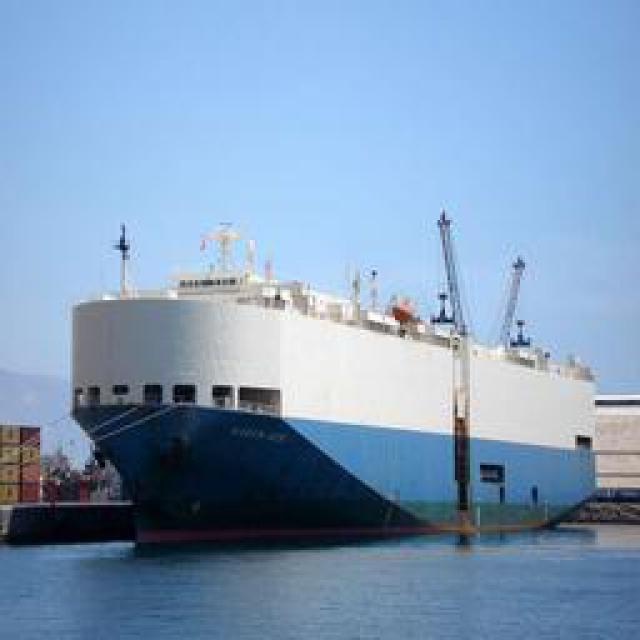Ship: (55, 204, 600, 544)
